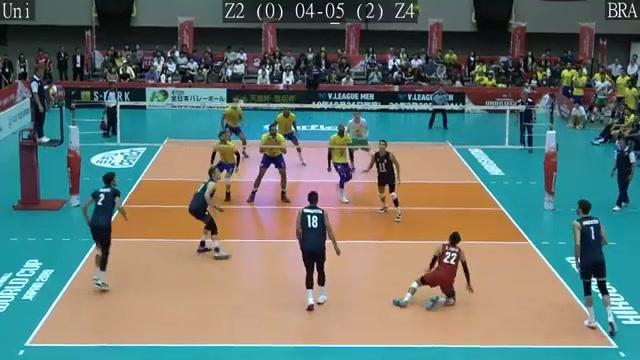ball: (411, 4, 426, 15)
